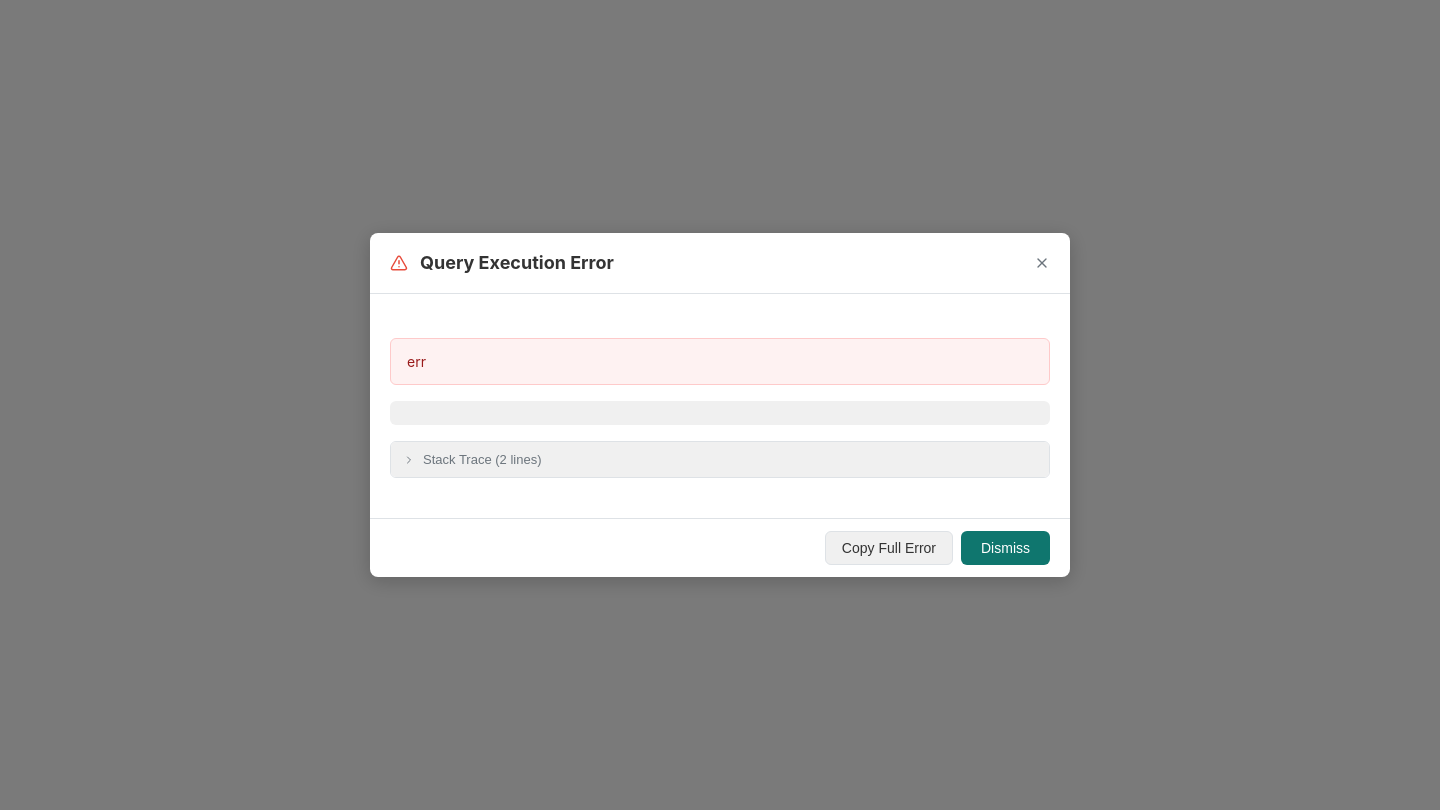
Test: QueryErrorModal › interactions › traceback toggle expands and collapses
Note: Click to expand
What coordinates should you click on to do the following:
click the button with class "traceback-toggle"
I would click on:
 (482, 460)
Its box is [391, 442, 1049, 477].
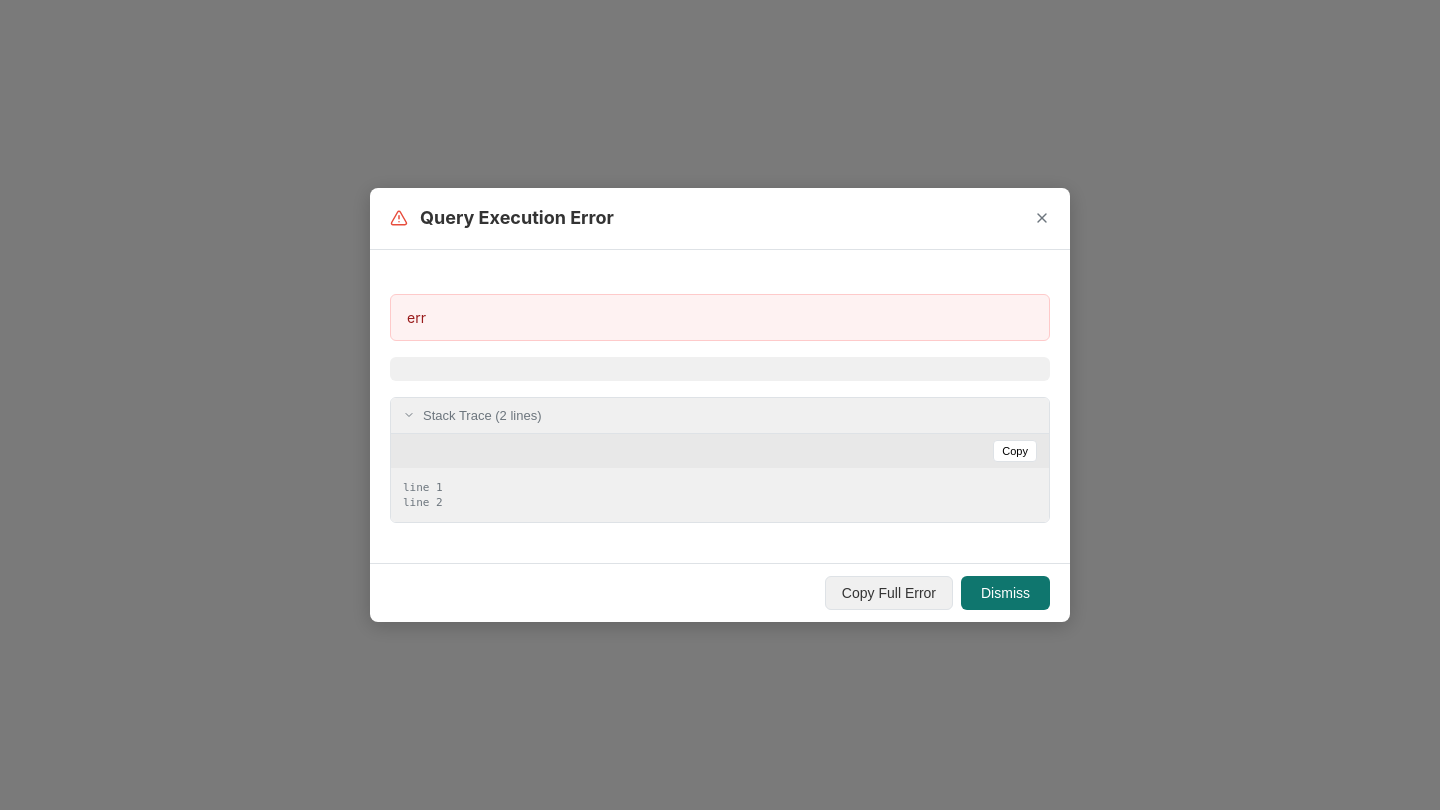
Expected: the element with class "traceback-content" is shown, [391, 432, 1049, 522]
Note: Click to collapse
What coordinates should you click on to do the following:
click the button with class "traceback-toggle"
I would click on:
 (482, 415)
Its box is [391, 398, 1049, 432].
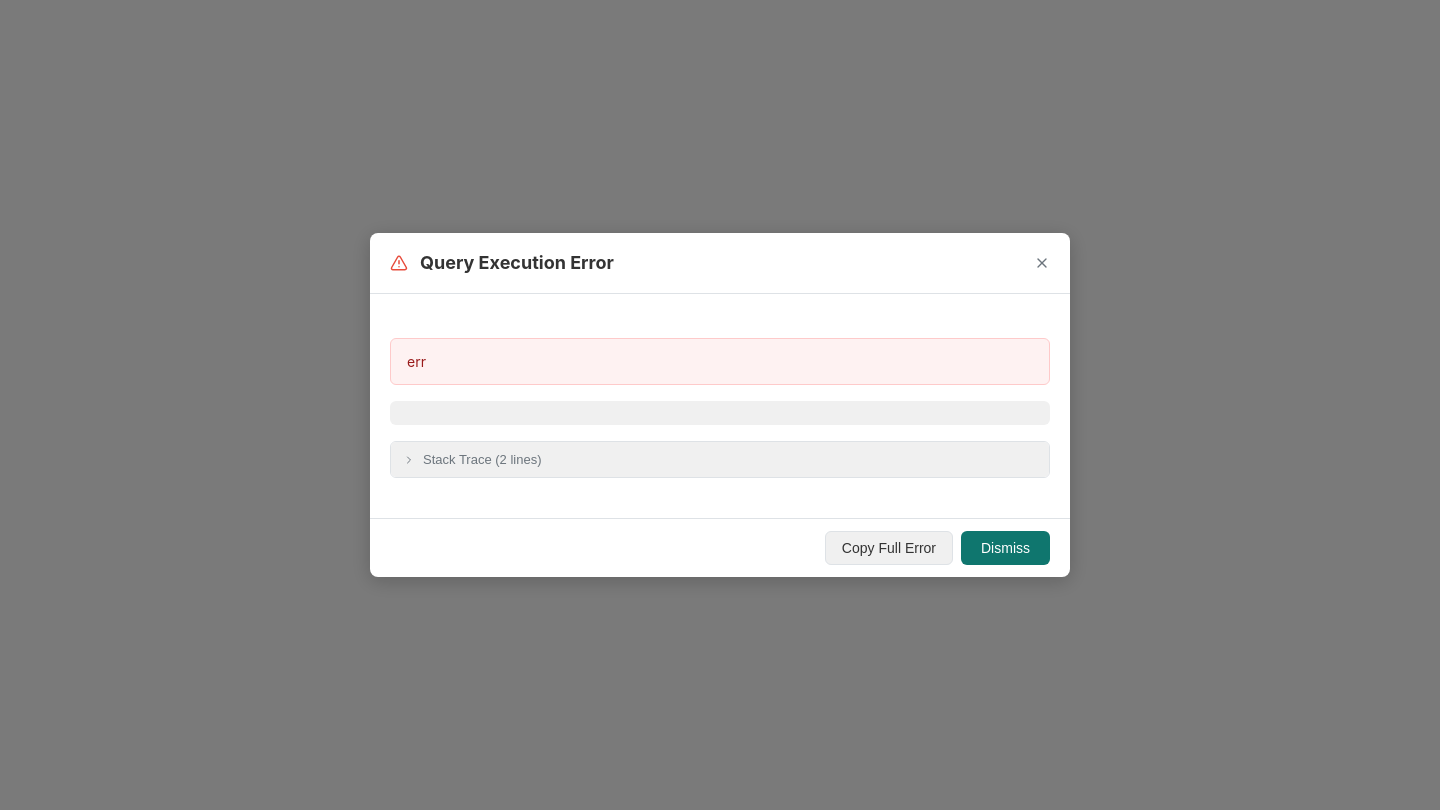
Expected: the element with class "traceback-content" is gone
